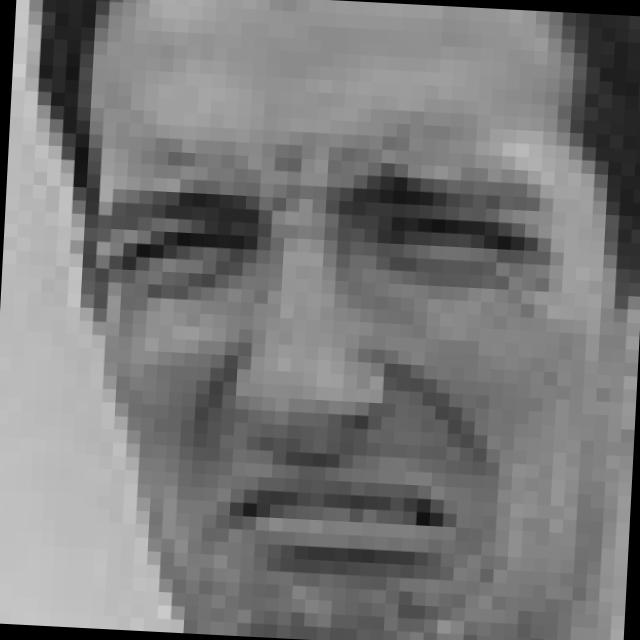disgust: (80, 143, 563, 602)
